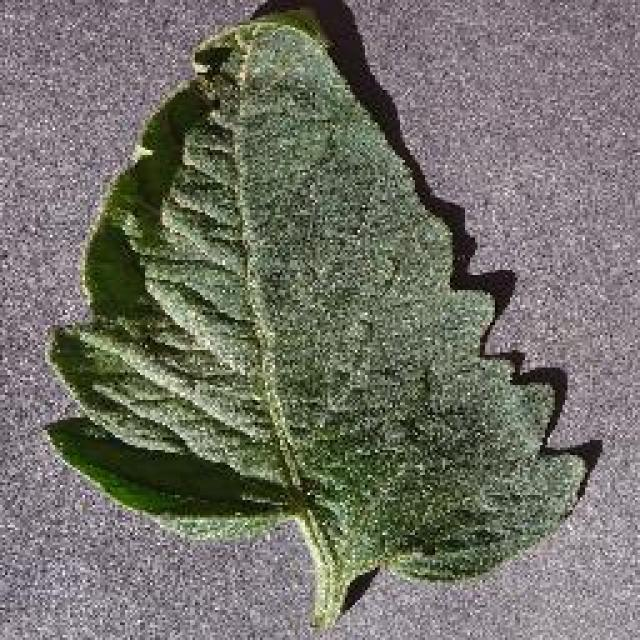Tomato___healthy: (26, 6, 589, 632)
